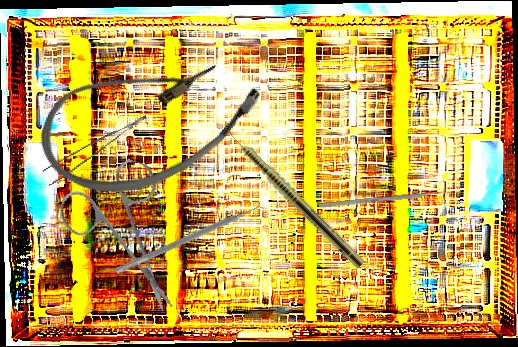Cannula: (24, 15, 276, 223)
Handpiece: (216, 119, 368, 270)
Iris Scissors: (40, 144, 210, 313)
Pusher: (319, 188, 457, 209)
Spatula Surgical: (114, 199, 269, 281)
Tissue Forceps: (39, 115, 156, 186)
